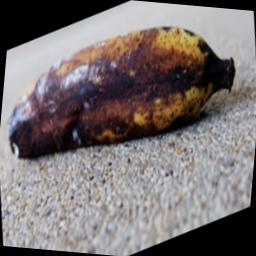Banana Rotten: (8, 14, 248, 164)
